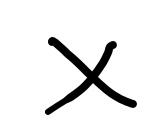mult: (45, 35, 137, 114)
